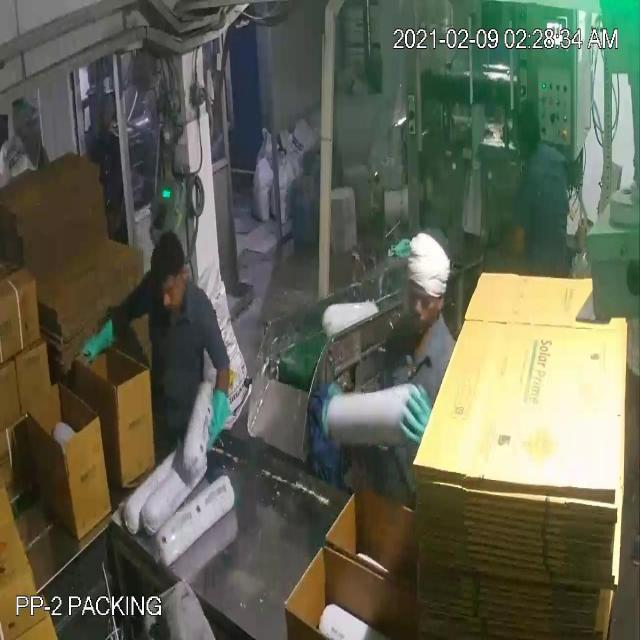Gloves: (36, 60, 417, 418)
